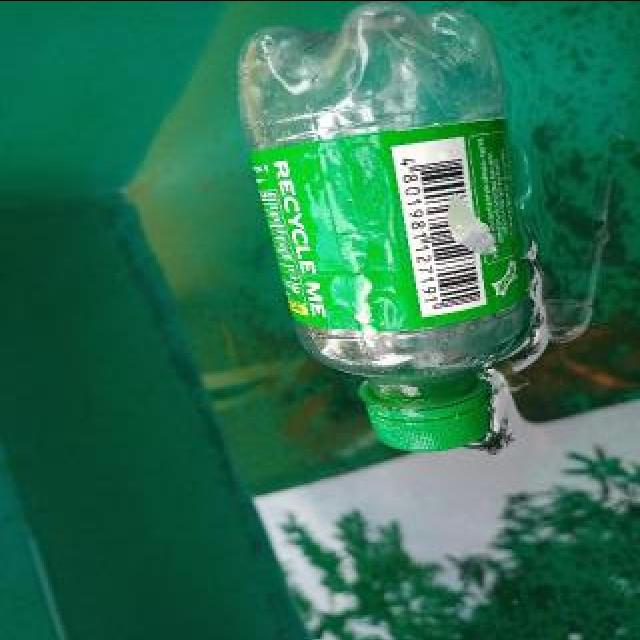Bottle: (237, 4, 537, 450)
